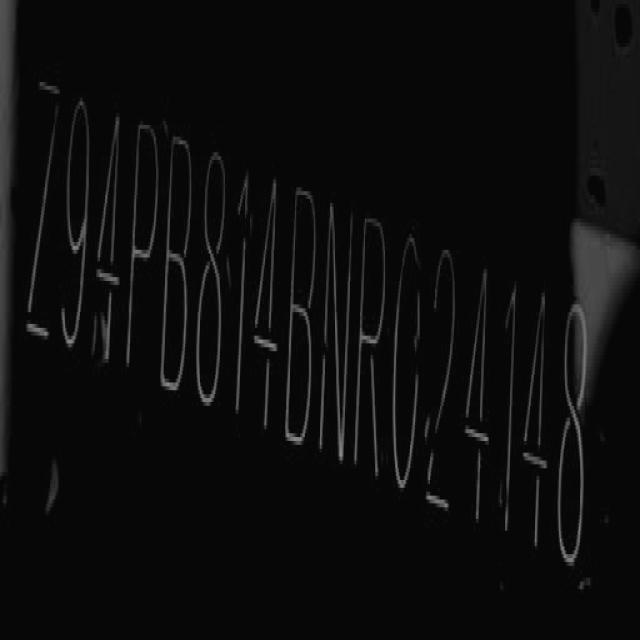0: (393, 219, 422, 496)
1: (496, 282, 521, 549), (234, 162, 250, 422)
2: (424, 249, 458, 529)
4: (522, 280, 552, 560), (464, 265, 494, 538), (254, 168, 283, 440), (97, 98, 125, 372)
8: (556, 297, 588, 573), (198, 142, 228, 411)
9: (64, 85, 92, 363)
B: (288, 177, 320, 455), (164, 122, 194, 397)
N: (322, 191, 353, 465)
P: (130, 111, 162, 386)
R: (356, 206, 388, 480)
Z: (27, 64, 59, 354)
